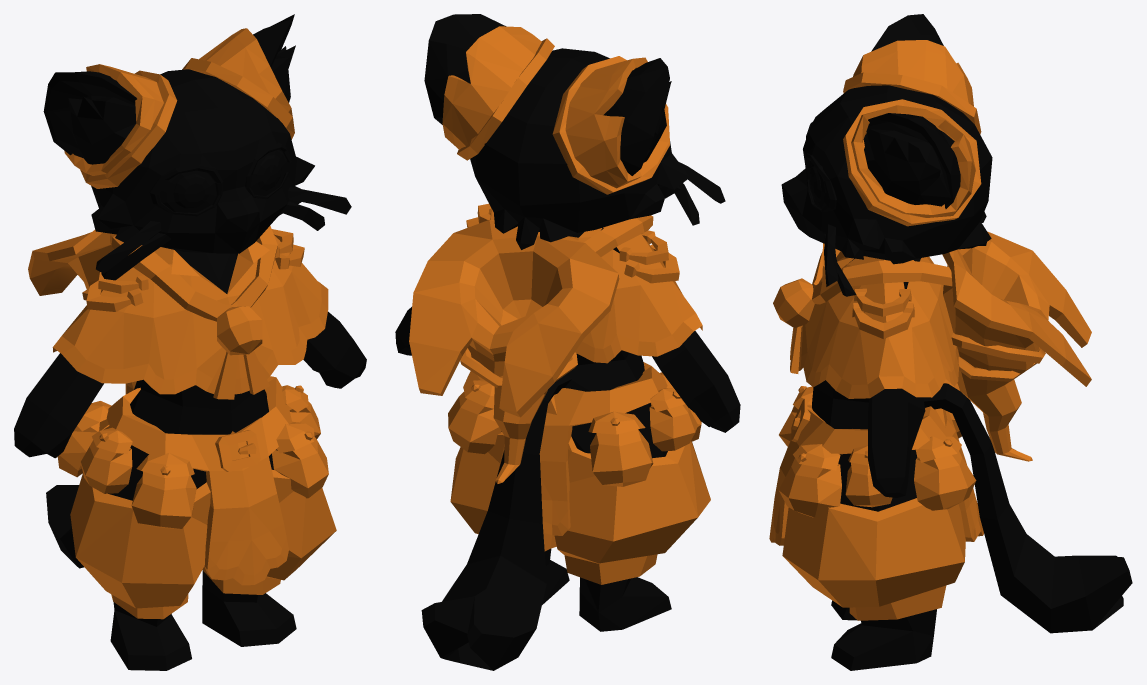
Rendered from SK_CharaV1.fbx.
3 renders of one model, left to right at view 1: azimuth 30°, elevation 25°; view 2: azimuth 150°, elevation 25°; view 3: azimuth 270°, elevation 25°, orthographic. The views are drawn at different scales.
Visible parts, largest first — view 1: Poncho, Head, Shorts, Body, Belt, UpperBody, EarCovers, Pouches01, HatString, EarTufts, Hat, Pouches02 (+11 smaller); view 2: Hat, Head, Shorts, Tail, EarCovers, Poncho, Body, Ears, Pouches03, Belt, UpperBody, Pouches02 (+4 smaller); view 3: Hat, Shorts, Head, Tail, Poncho, EarCovers, Body, UpperBody, Belt, EarTufts, Pouches01, Pouches03 (+8 smaller).
Part boxes in pixels (x1=…): Poncho: x1=52, y1=235, x2=328, y2=394; Head: x1=91, y1=69, x2=314, y2=253; Shorts: x1=70, y1=431, x2=336, y2=619; Body: x1=108, y1=379, x2=296, y2=670; Belt: x1=106, y1=376, x2=292, y2=585; UpperBody: x1=14, y1=250, x2=366, y2=458; EarCovers: x1=64, y1=28, x2=294, y2=188; Pouches01: x1=131, y1=421, x2=328, y2=529; HatString: x1=110, y1=226, x2=277, y2=399; EarTufts: x1=55, y1=45, x2=295, y2=164; Hat: x1=28, y1=230, x2=136, y2=394; Pouches02: x1=81, y1=385, x2=320, y2=493; Hat: x1=409, y1=219, x2=619, y2=483; Head: x1=470, y1=48, x2=689, y2=249; Shorts: x1=450, y1=396, x2=710, y2=584; Tail: x1=421, y1=374, x2=571, y2=670; EarCovers: x1=442, y1=26, x2=669, y2=194; Poncho: x1=489, y1=213, x2=702, y2=363; Body: x1=501, y1=350, x2=671, y2=631; Ears: x1=424, y1=14, x2=669, y2=175; Pouches03: x1=448, y1=379, x2=653, y2=486; Belt: x1=496, y1=362, x2=667, y2=535; UpperBody: x1=395, y1=227, x2=740, y2=432; Pouches02: x1=463, y1=371, x2=697, y2=451; Hat: x1=942, y1=231, x2=1091, y2=461; Shorts: x1=782, y1=405, x2=965, y2=620; Head: x1=781, y1=85, x2=992, y2=264; Tail: x1=923, y1=383, x2=1132, y2=633; Poncho: x1=798, y1=243, x2=959, y2=398; EarCovers: x1=843, y1=40, x2=981, y2=226; Body: x1=812, y1=380, x2=936, y2=670; UpperBody: x1=849, y1=258, x2=925, y2=497; Belt: x1=769, y1=399, x2=983, y2=545; EarTufts: x1=864, y1=129, x2=951, y2=206; Pouches01: x1=778, y1=386, x2=841, y2=517; Pouches03: x1=914, y1=379, x2=976, y2=510.
Size of the model in its own units: 116 by 187 by 109.
